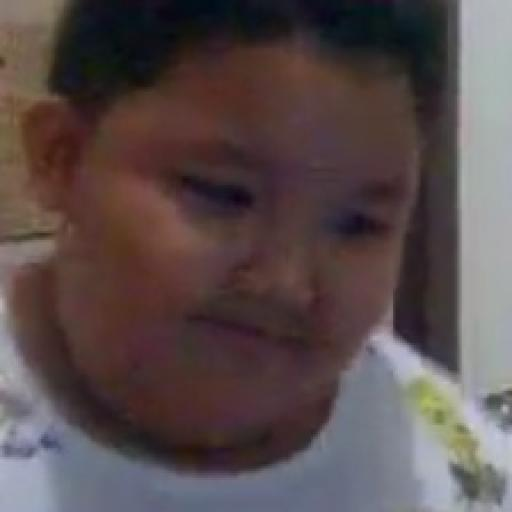Autism: (7, 0, 471, 493)
